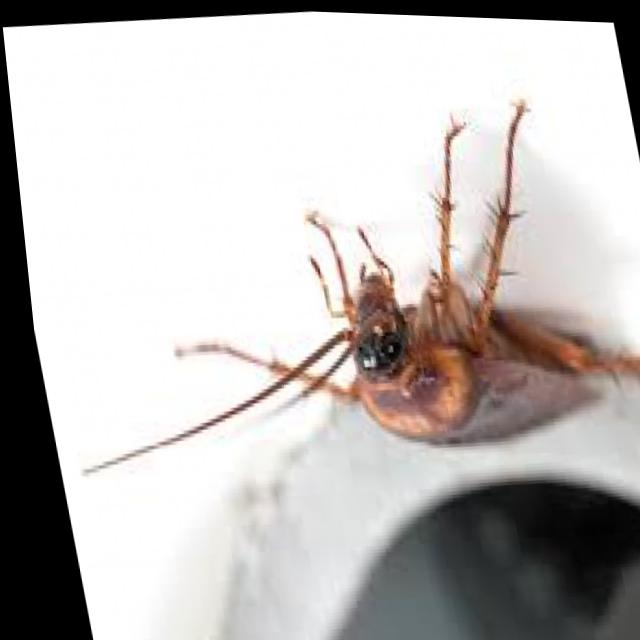Cockroach: (5, 65, 640, 510)
